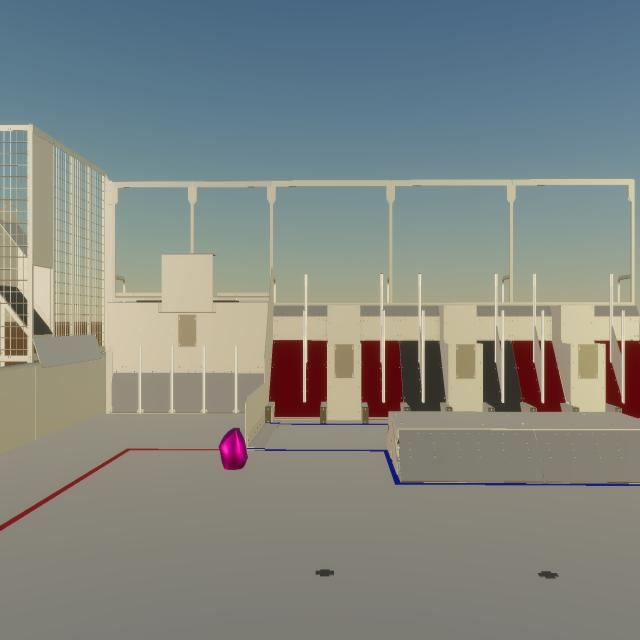frc_cube: (219, 428, 248, 470)
